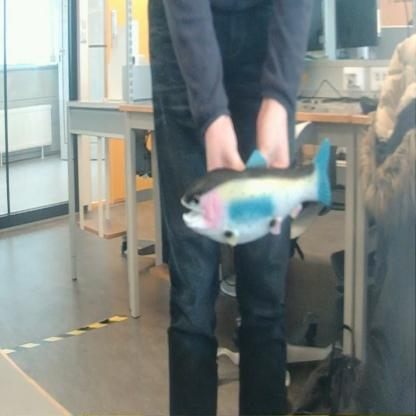rubberfish: (178, 135, 336, 250)
